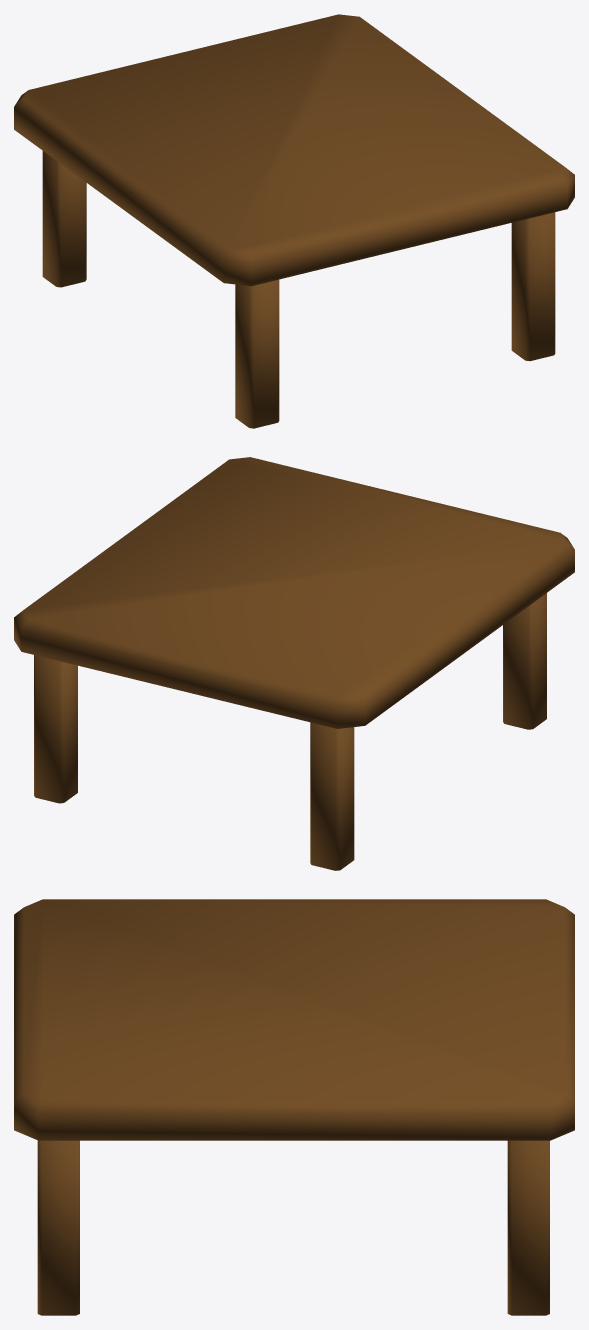
Rendered from CoffeeTable.fbx.
The picture shows the model from 3 angles, top to bottom: view 1: azimuth 30°, elevation 25°; view 2: azimuth 150°, elevation 25°; view 3: azimuth 270°, elevation 25°; orthographic projection. The views are drawn at different scales.
Parts seen in each view (by area): view 1: reception_coffeetable; view 2: reception_coffeetable; view 3: reception_coffeetable.
Part boxes in pixels (x1=…): reception_coffeetable: x1=14, y1=14, x2=574, y2=428; reception_coffeetable: x1=14, y1=457, x2=574, y2=870; reception_coffeetable: x1=14, y1=899, x2=574, y2=1315.
Size of the model in its own units: 110 by 54.78 by 125.
